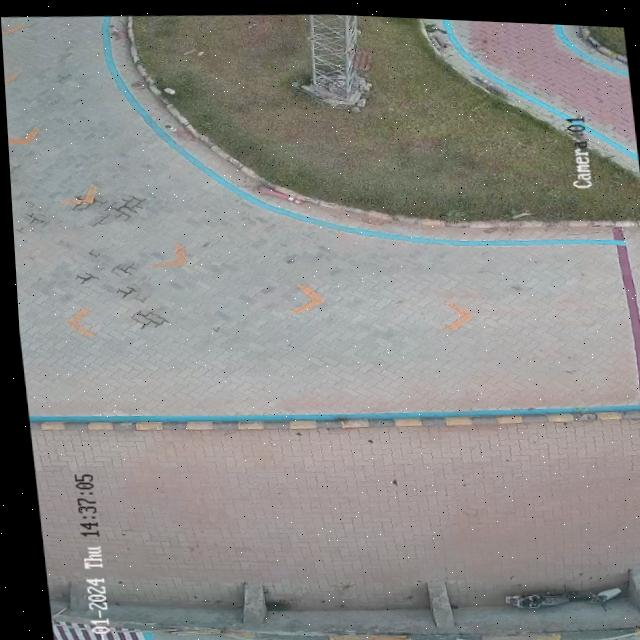No Car: (1, 11, 640, 640)
